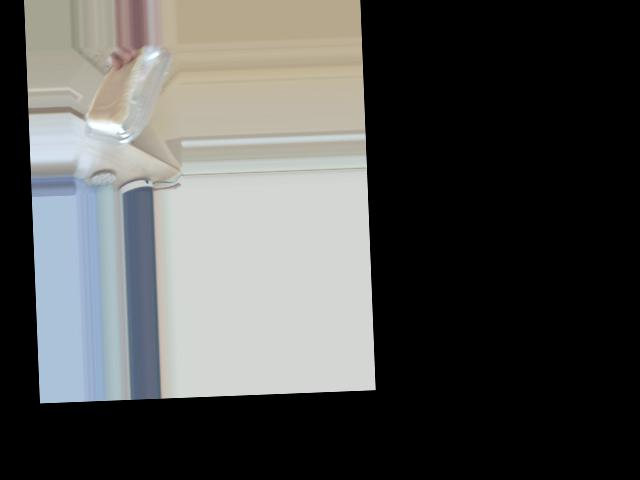cheese: (94, 79, 159, 136)
